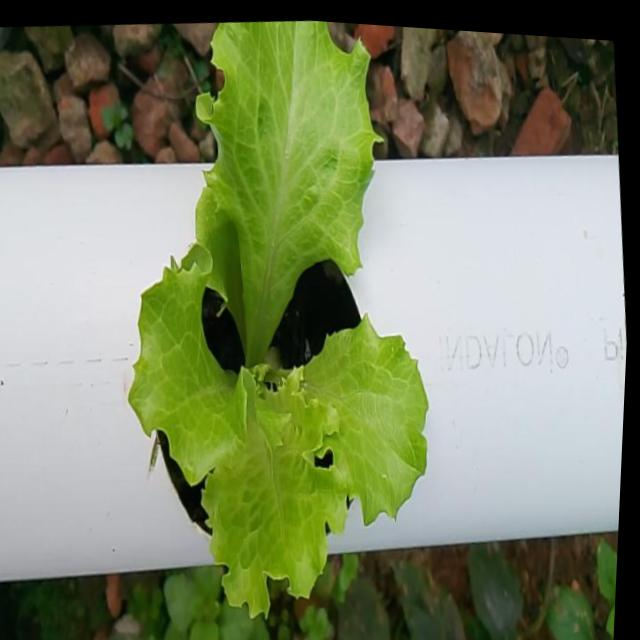Baby: (128, 20, 425, 626)
